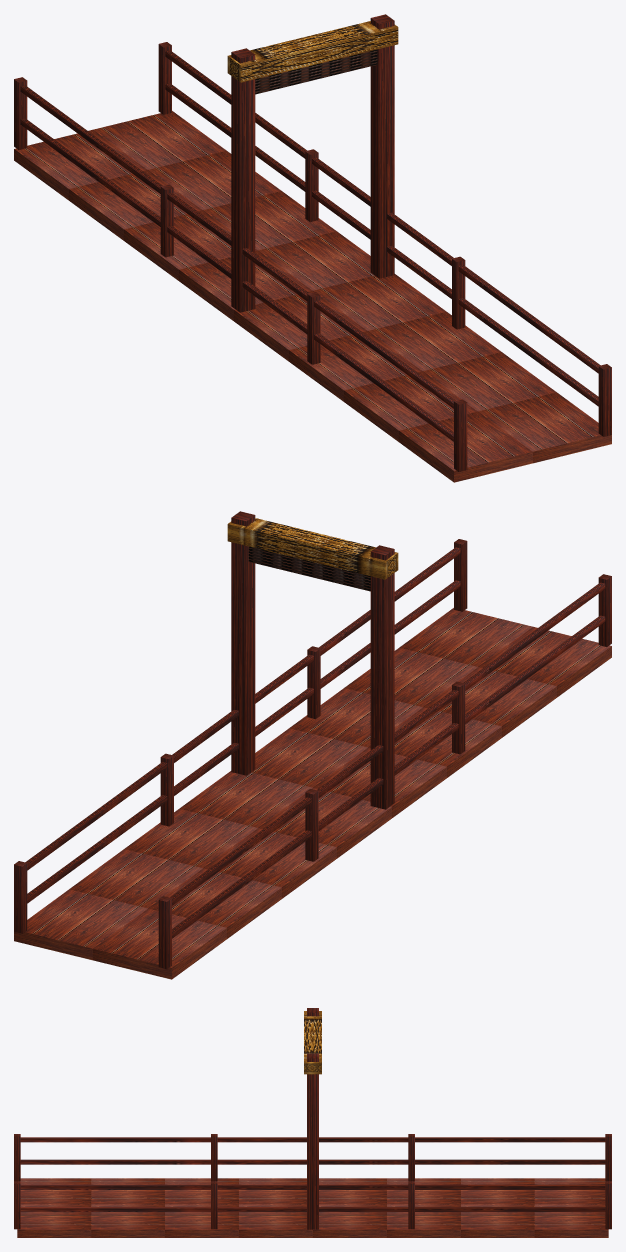
Rendered from Path_LOD2.fbx.
The picture shows the model from 3 angles, top to bottom: view 1: azimuth 30°, elevation 25°; view 2: azimuth 150°, elevation 25°; view 3: azimuth 270°, elevation 25°; orthographic projection. The views are drawn at different scales.
Visible parts, largest first — view 1: Retopo_Path_LOD2.001; view 2: Retopo_Path_LOD2.001; view 3: Retopo_Path_LOD2.001.
Boxes of the visible parts, x1=… form: Retopo_Path_LOD2.001: x1=14, y1=14, x2=611, y2=482; Retopo_Path_LOD2.001: x1=14, y1=511, x2=611, y2=979; Retopo_Path_LOD2.001: x1=14, y1=1008, x2=611, y2=1237.
Bounding box in the file's own units: 240 × 387 × 1173.
